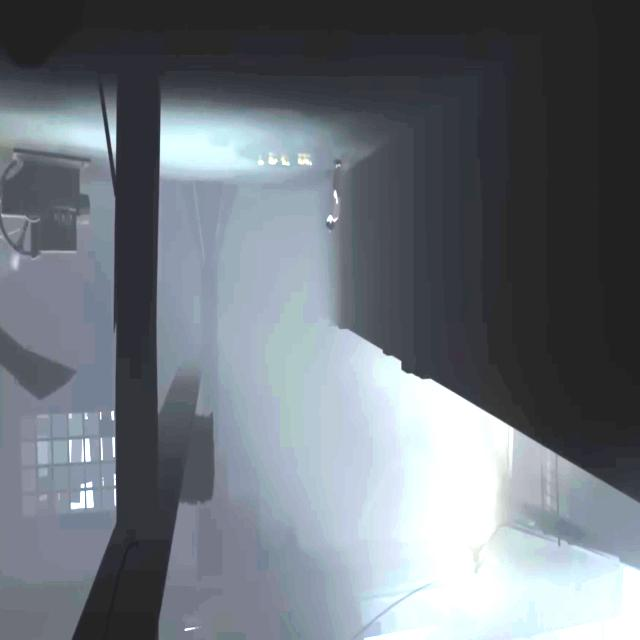boy: (325, 157, 342, 233)
